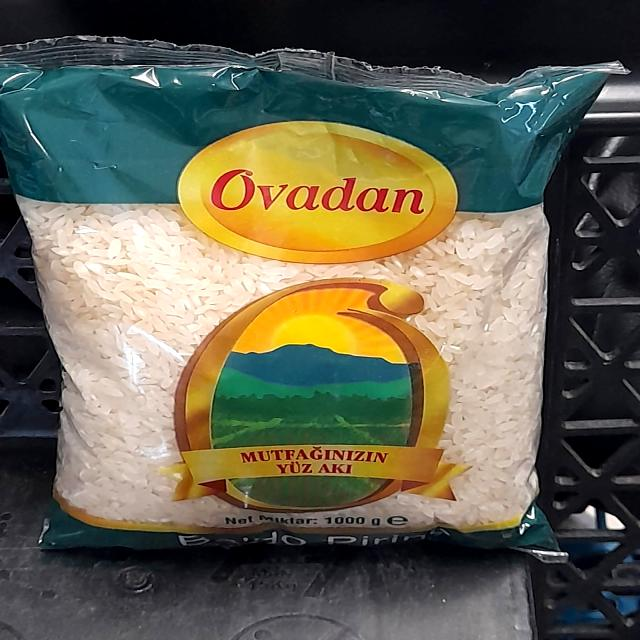rice: (6, 77, 562, 553)
